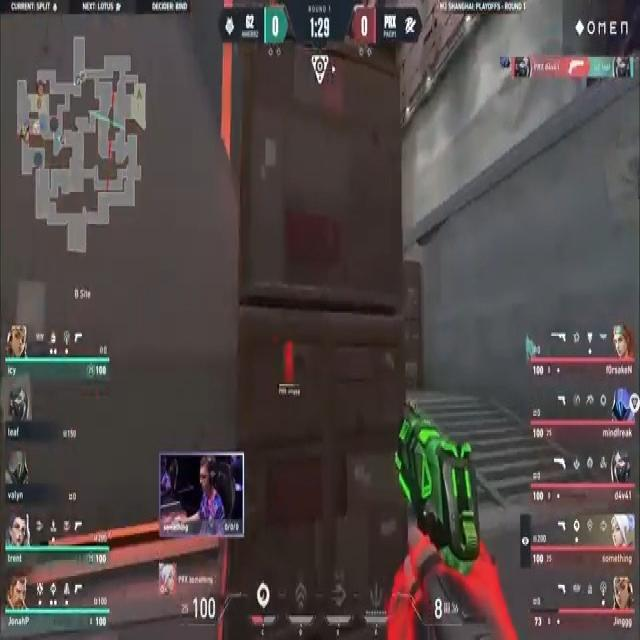enemy behind wall: (284, 339, 294, 387)
